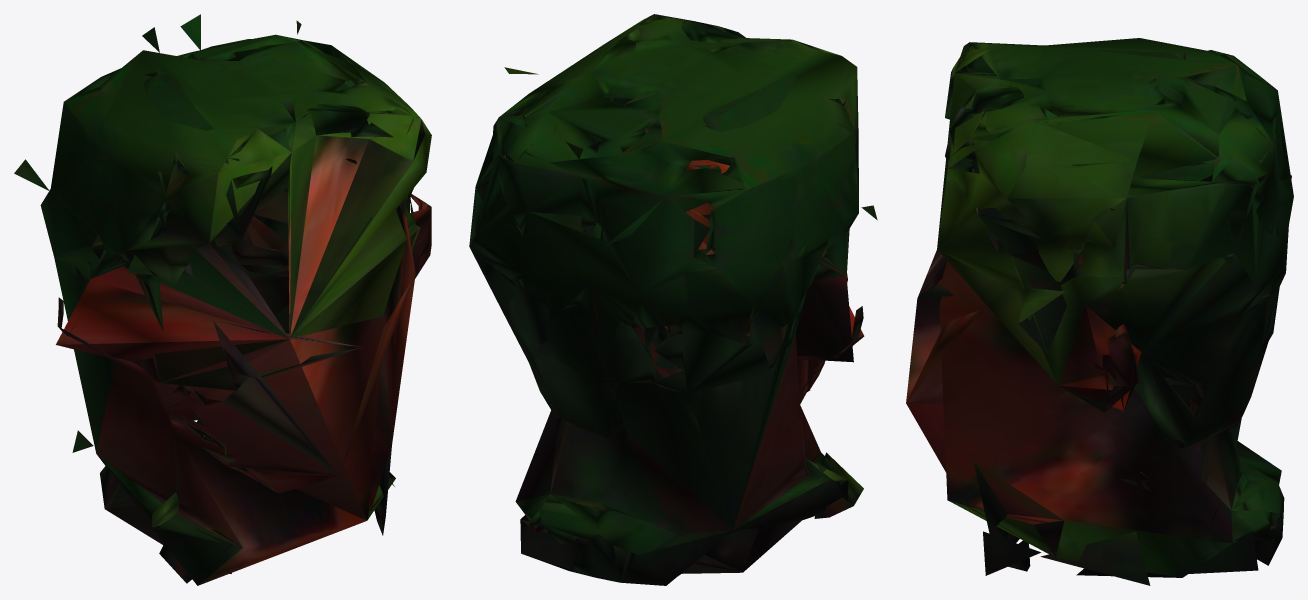
Rendered from lg-fallen-colossus-head.glb.
3 views of the same model, side by side, from view 1: azimuth 30°, elevation 25°; view 2: azimuth 150°, elevation 25°; view 3: azimuth 270°, elevation 25° (orthographic). The views are drawn at different scales.
Visible parts, largest first — view 1: geometry_0; view 2: geometry_0; view 3: geometry_0.
Part boxes in pixels (<box>): geometry_0: <box>14,14,431,585</box>; geometry_0: <box>469,14,877,585</box>; geometry_0: <box>906,38,1293,585</box>.
Bounding box in the file's own units: 0.8377 × 1 × 0.7498.
Materials: 1 (1 with a texture image).
